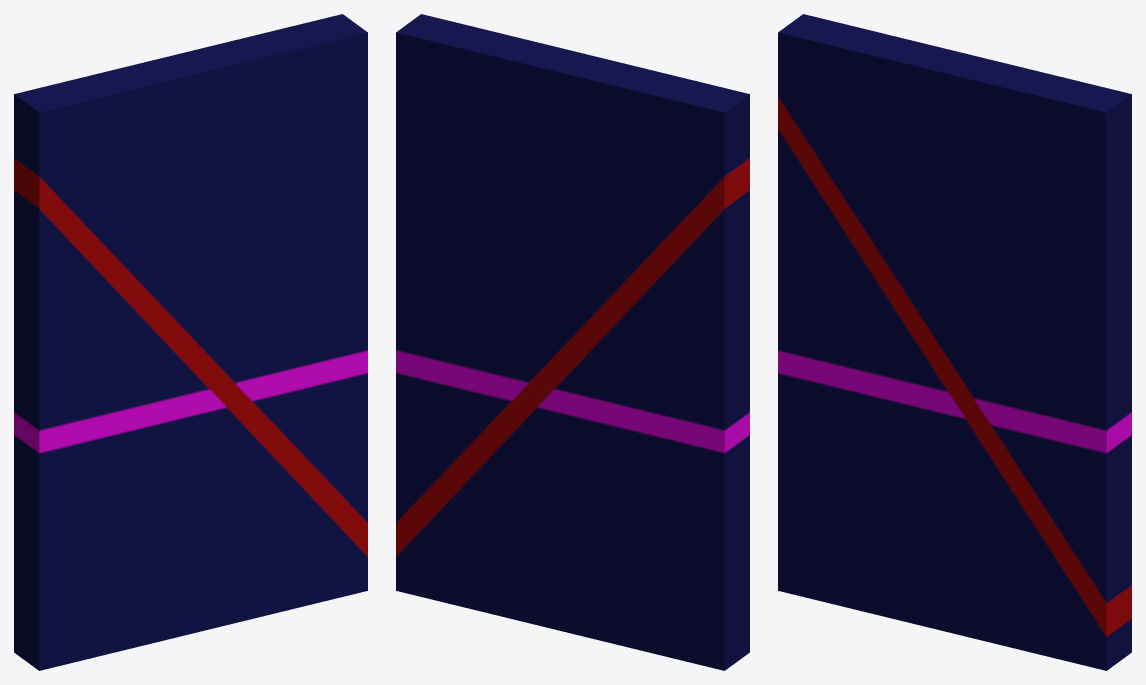
Rendered from cellDoorF.fbx.
3 renders of one model, left to right at view 1: azimuth 30°, elevation 25°; view 2: azimuth 150°, elevation 25°; view 3: azimuth 330°, elevation 25°, orthographic.
Visible parts, largest first — view 1: cellDoorBUV:Mesh; view 2: cellDoorBUV:Mesh; view 3: cellDoorBUV:Mesh.
Part boxes in pixels (box(x1,y1,x2,y2)): cellDoorBUV:Mesh: box(14, 14, 367, 670); cellDoorBUV:Mesh: box(396, 14, 749, 670); cellDoorBUV:Mesh: box(778, 14, 1131, 670).
Size of the model in its own units: 14.41 by 23.4 by 1.92.
1 material, 1 textured.
